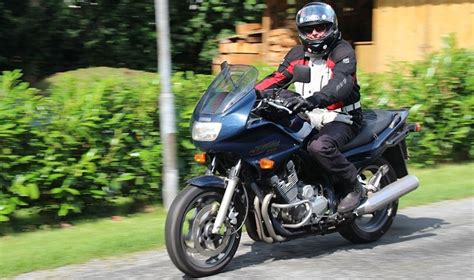com_capacete: (292, 2, 345, 58)
